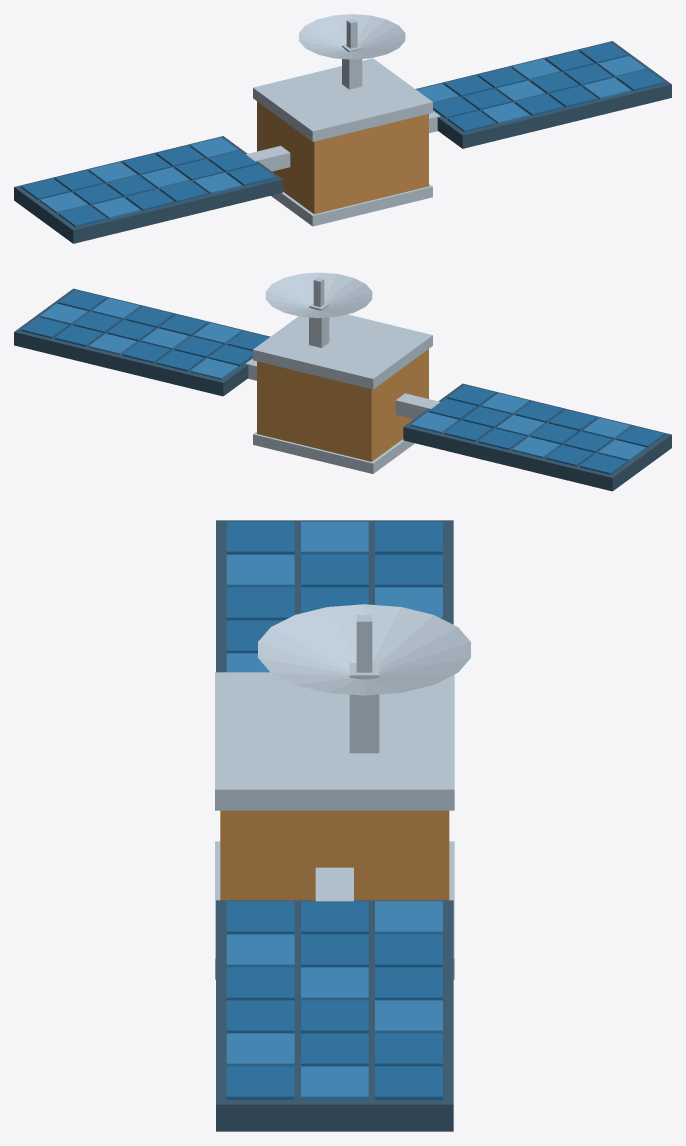
File: satellite.glb
3 views of the same model, one above another, from view 1: azimuth 30°, elevation 25°; view 2: azimuth 150°, elevation 25°; view 3: azimuth 270°, elevation 25° (orthographic). The views are drawn at different scales.
Visible parts, largest first — view 1: satellite; view 2: satellite; view 3: satellite.
Part boxes in pixels (x1,y1,x2,y2): satellite: [14, 14, 671, 243]; satellite: [14, 272, 671, 491]; satellite: [215, 520, 470, 1131].
Size of the model in its own units: 6.52 by 1.66 by 1.21.
